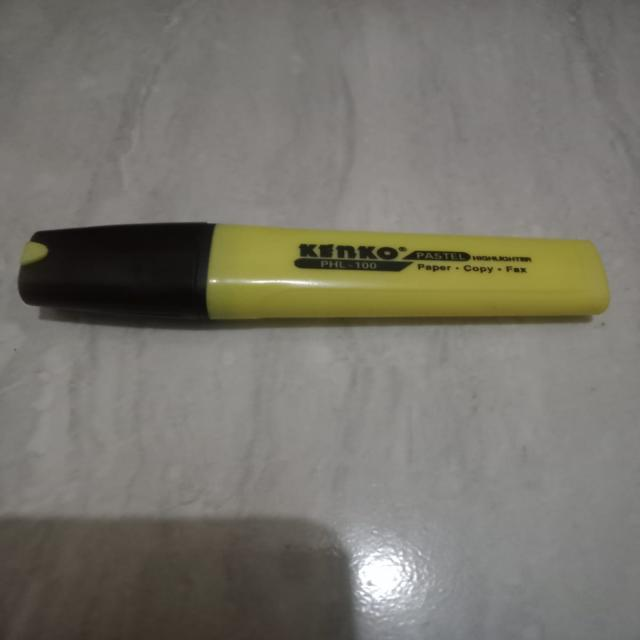highlighter: (8, 206, 640, 342)
